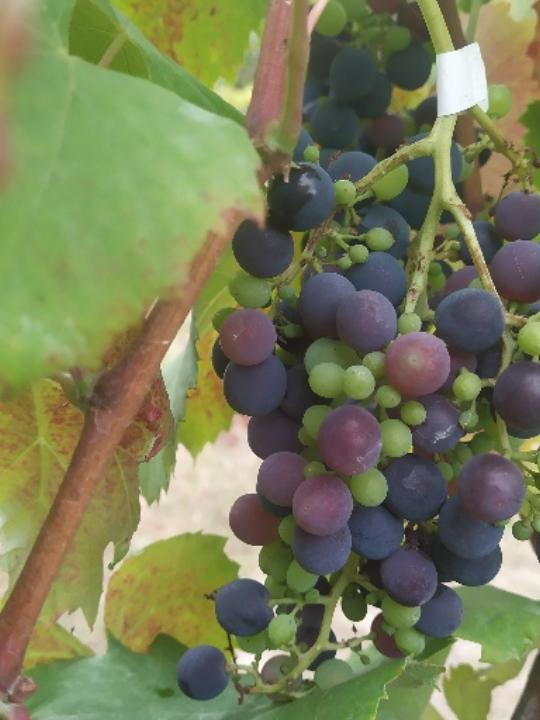grape: (171, 131, 540, 706)
